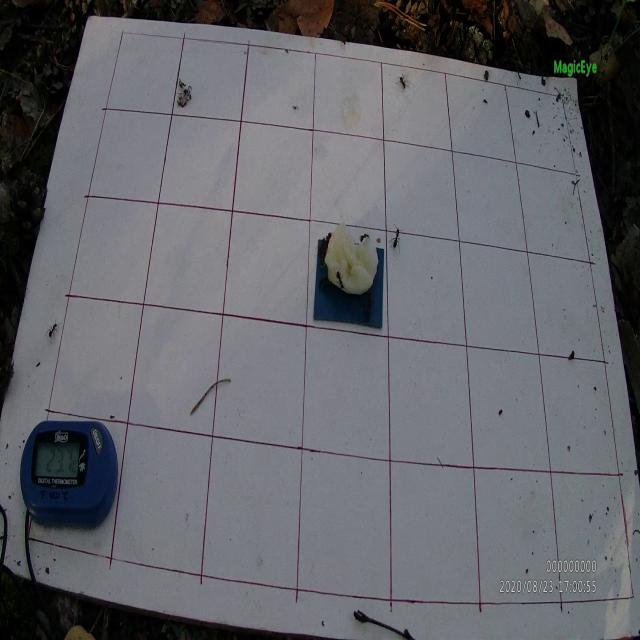Ant: (44, 318, 62, 344), (389, 223, 403, 254), (334, 266, 349, 294), (396, 73, 410, 94), (358, 232, 369, 244)
